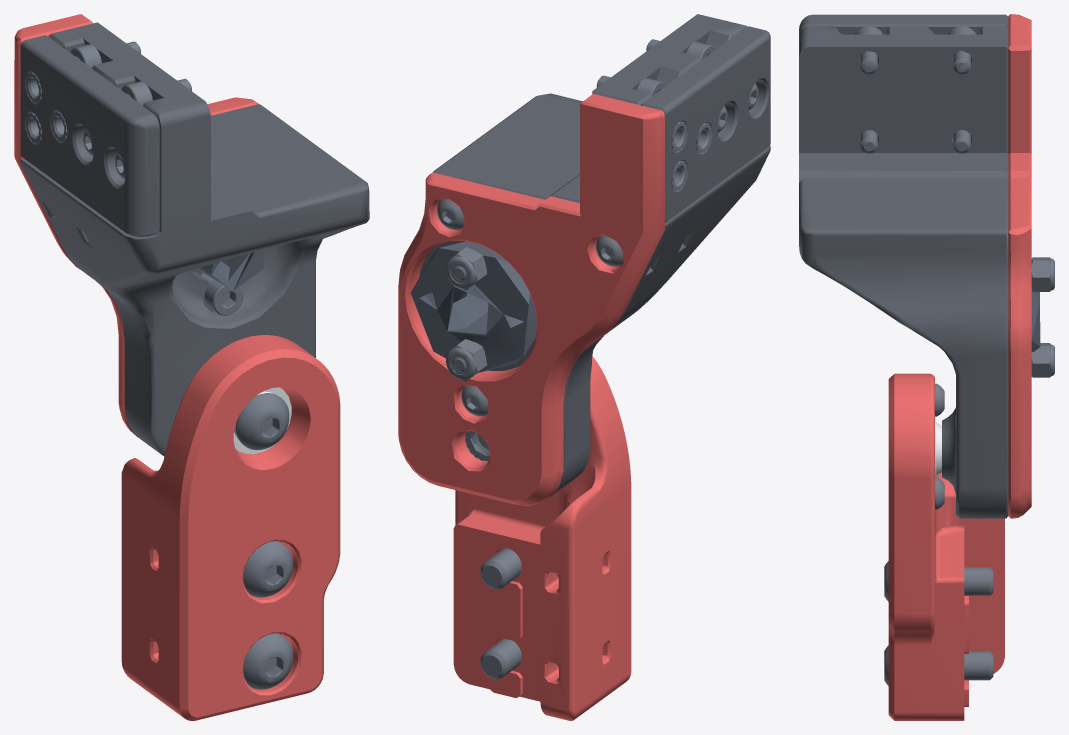
The picture shows the model from 3 angles, left to right: view 1: azimuth 30°, elevation 25°; view 2: azimuth 150°, elevation 25°; view 3: azimuth 270°, elevation 25°; orthographic projection. The views are drawn at different scales.
Parts seen in each view (by area): view 1: z_bed_rear, z_carriage_rear, z_rear_insert_3hole, [a]_z_carriage_rear, m5x16_bhcs__5_, m5x16_bhcs__1___1_, m5x16_bhcs__1___1__21, leadscrew_nut_v1, m3x12_shcs__2_, m3x8_shcs__1___2__9, m3x8_shcs__1___2__27; view 2: [a]_z_carriage_rear, z_bed_rear, z_carriage_rear, z_rear_insert_3hole, leadscrew_nut_v1, m5x16_bhcs__1___1_, m5x16_bhcs__1___1__21, m3_locknut, m3_locknut__1___1__19, m3x6_bhcs__5__6, m3x6_bhcs__5_, m3x6_bhcs__5__8; view 3: z_carriage_rear, z_bed_rear, [a]_z_carriage_rear, z_rear_insert_3hole, m5x16_bhcs__1___1__21, m5x16_bhcs__1___1_, m3_locknut__1___1__19, m3_locknut, m3x8_shcs__1___2__27, m3x8_shcs__1___2__9, leadscrew_nut_v1.
Boxes of the visible parts, left/top/right/bottom form: z_bed_rear: left=121, top=334, right=340, bottom=720; z_carriage_rear: left=20, top=22, right=369, bottom=456; z_rear_insert_3hole: left=20, top=35, right=159, bottom=236; [a]_z_carriage_rear: left=14, top=14, right=259, bottom=437; m5x16_bhcs__5_: left=235, top=393, right=289, bottom=450; m5x16_bhcs__1___1_: left=243, top=541, right=293, bottom=597; m5x16_bhcs__1___1__21: left=243, top=633, right=293, bottom=689; leadscrew_nut_v1: left=191, top=250, right=264, bottom=290; m3x12_shcs__2_: left=201, top=273, right=243, bottom=315; m3x8_shcs__1___2__9: left=121, top=79, right=191, bottom=105; m3x8_shcs__1___2__27: left=70, top=41, right=140, bottom=68; [a]_z_carriage_rear: left=398, top=93, right=664, bottom=505; z_bed_rear: left=453, top=356, right=631, bottom=720; z_carriage_rear: left=419, top=14, right=770, bottom=496; z_rear_insert_3hole: left=641, top=26, right=770, bottom=222; leadscrew_nut_v1: left=410, top=241, right=536, bottom=372; m5x16_bhcs__1___1_: left=480, top=548, right=521, bottom=589; m5x16_bhcs__1___1__21: left=480, top=638, right=521, bottom=679; m3_locknut: left=445, top=339, right=487, bottom=381; m3_locknut__1___1__19: left=445, top=247, right=487, bottom=289; m3x6_bhcs__5__6: left=437, top=199, right=464, bottom=229; m3x6_bhcs__5_: left=596, top=236, right=623, bottom=266; m3x6_bhcs__5__8: left=461, top=385, right=488, bottom=416; z_carriage_rear: left=799, top=26, right=1008, bottom=518; z_bed_rear: left=888, top=373, right=1004, bottom=720; [a]_z_carriage_rear: left=1008, top=14, right=1031, bottom=518; z_rear_insert_3hole: left=799, top=14, right=1008, bottom=34; m5x16_bhcs__1___1__21: left=884, top=645, right=993, bottom=685; m5x16_bhcs__1___1_: left=884, top=561, right=993, bottom=601; m3_locknut__1___1__19: left=1031, top=257, right=1054, bottom=291; m3_locknut: left=1031, top=343, right=1054, bottom=377; m3x8_shcs__1___2__27: left=948, top=26, right=976, bottom=74; m3x8_shcs__1___2__9: left=855, top=26, right=883, bottom=74; leadscrew_nut_v1: left=1031, top=291, right=1040, bottom=351.
Bounding box in the file's own units: 0.0491 × 0.1153 × 0.044.
